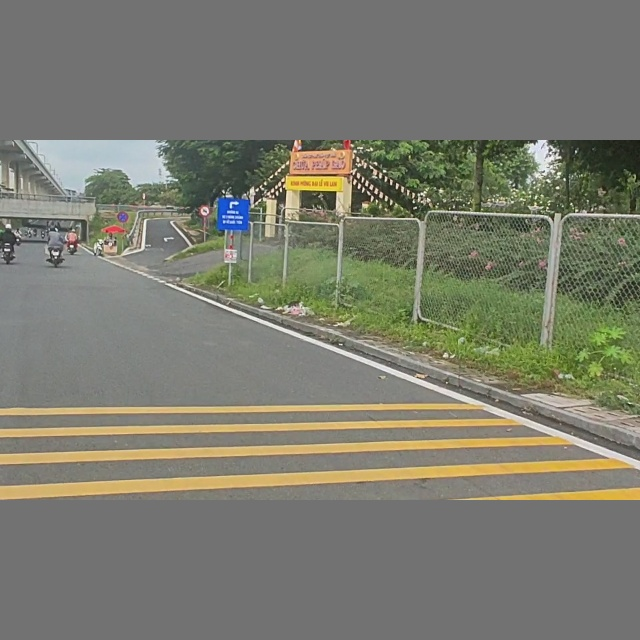P.103a: (199, 205, 211, 217)
P.130: (117, 211, 129, 223)
